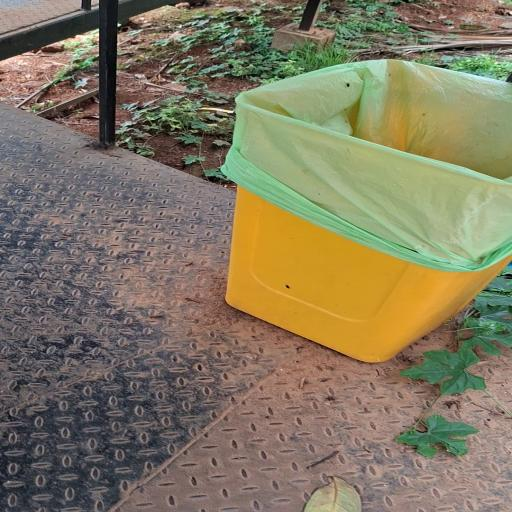Nilkamal-dustbin-detection: (224, 61, 512, 362)
